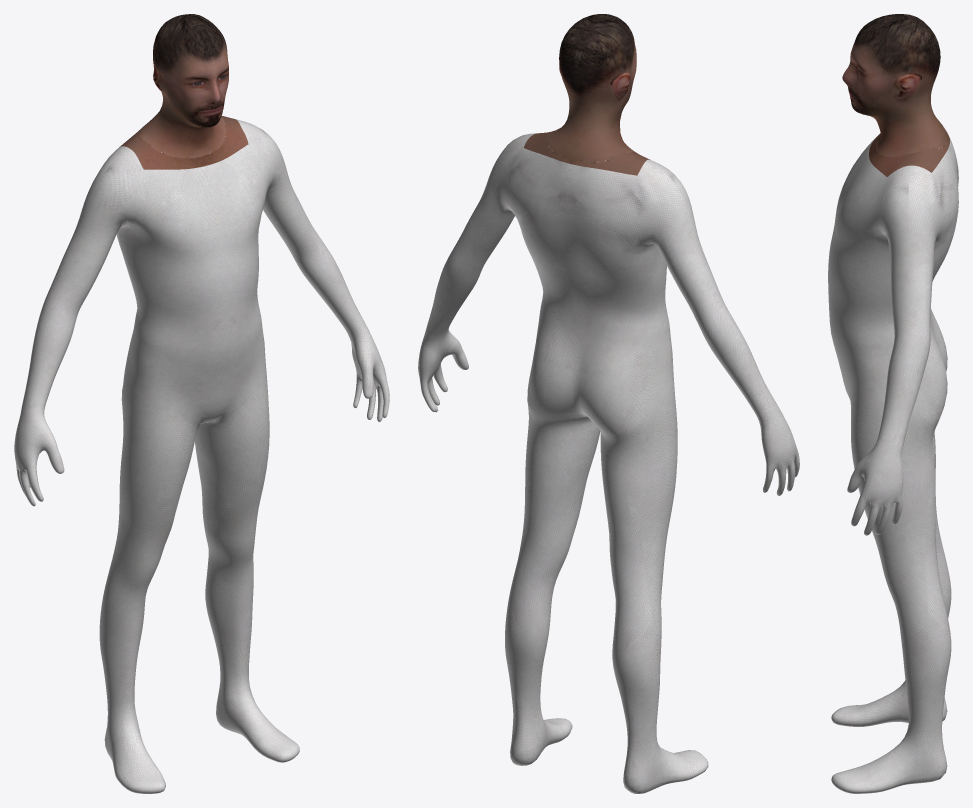
Rendered from male.FBX.
3 views of the same model, side by side, from view 1: azimuth 30°, elevation 25°; view 2: azimuth 150°, elevation 25°; view 3: azimuth 270°, elevation 25° (orthographic).
Parts seen in each view (by area): view 1: male; view 2: male; view 3: male.
Part boxes in pixels (x1,y1,x2,y2): male: (14,14,389,793); male: (418,14,799,793); male: (828,14,958,793).
Bounding box in the file's own units: 243 × 472 × 75.8.
1 material, 1 textured.
